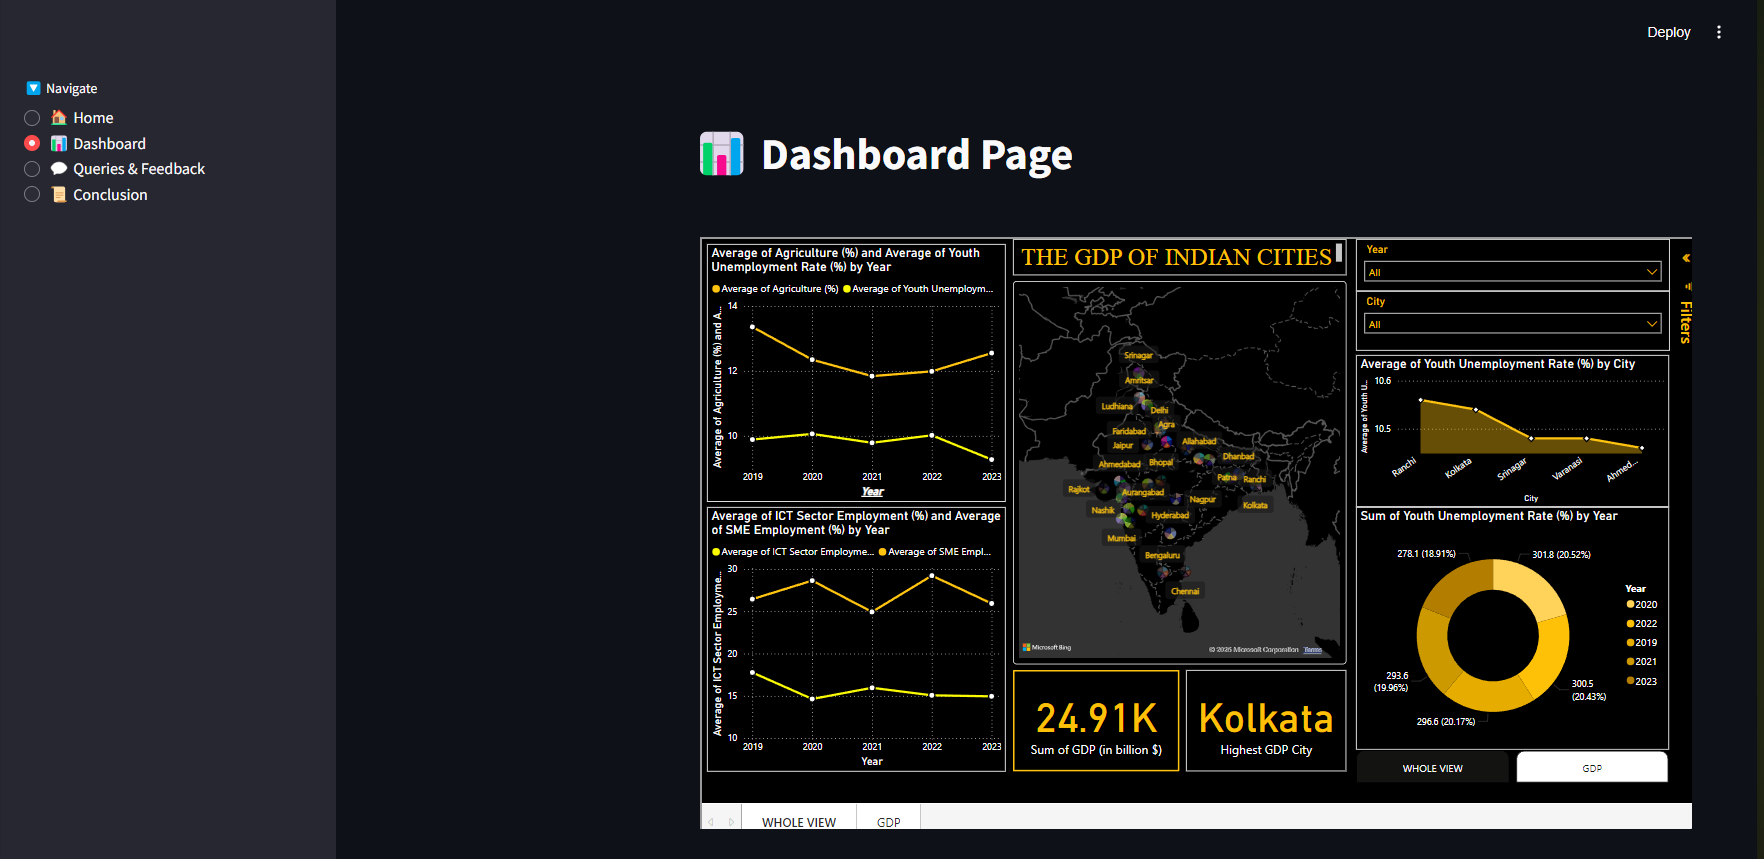

This screenshot's page, from the dashboard's own definition file:
{"tool":"powerbi","page":{"name":"WHOLE VIEW","canvas":[1280,720],"ordinal":0},"visuals":[{"type":"card","fields":{"Values":["Sum(dataset.GDP (in billion $))"]},"box":[411.2,551.2,228.8,168.8],"z":0},{"type":"lineChart","fields":{"Category":["dataset.Year"],"Y":["Avg(dataset.ICT Sector Employment (%))","Avg(dataset.SME Employment (%))"]},"box":[0,381.2,411.2,338.8],"z":1000},{"type":"lineChart","fields":{"Category":["dataset.Year"],"Y":["Avg(dataset.Agriculture (%))","Avg(dataset.Youth Unemployment Rate (%))"]},"box":[0,10,411.2,381.2],"z":2000},{"type":"lineChart","fields":{"Y":["Avg(dataset.Youth Unemployment Rate (%))"],"Category":["dataset.City"]},"box":[865,147.5,415,207.5],"z":3000},{"type":"slicer","fields":{"Values":["dataset.Year"]},"box":[865,0,415,68.8],"z":4000},{"type":"slicer","fields":{"Values":["dataset.City"]},"box":[865,68.8,415,78.8],"z":5000},{"type":"donutChart","fields":{"Category":["dataset.Year"],"Y":["Sum(dataset.Youth Unemployment Rate (%))"]},"box":[864.3,354.3,414.3,321.4],"z":6000},{"type":"card","fields":{"Values":["dataset.Highest GDP City"]},"box":[640,551.2,225,168.8],"z":7000},{"type":"textbox","box":[397.5,0,467.5,108.8],"z":8000},{"type":"map","fields":{"Category":["dataset.City"],"Series":["dataset.GDP (in billion $)"]},"box":[411.2,55,453.8,507.5],"z":9000},{"type":"pageNavigator","box":[631.4,690,648.6,30],"z":10000}]}

Visuals, with their boxes on the page's 1280x720 design canvas (x1, y1, x2, y2). These are canvas units, not pixel positions in the 1764x859 screenshot, which may show the page scaled, cropped or inside an application window:
card - Sum(dataset.GDP (in billion $)): 411:551:640:720
lineChart - dataset.Year x Avg(dataset.ICT Sector Employment (%)): 0:381:411:720
lineChart - dataset.Year x Avg(dataset.Agriculture (%)): 0:10:411:391
lineChart - Avg(dataset.Youth Unemployment Rate (%)) x dataset.City: 865:148:1280:355
slicer - dataset.Year: 865:0:1280:69
slicer - dataset.City: 865:69:1280:148
donutChart - dataset.Year x Sum(dataset.Youth Unemployment Rate (%)): 864:354:1279:676
card - dataset.Highest GDP City: 640:551:865:720
textbox: 398:0:865:109
map - dataset.City x dataset.GDP (in billion $): 411:55:865:562
pageNavigator: 631:690:1280:720
